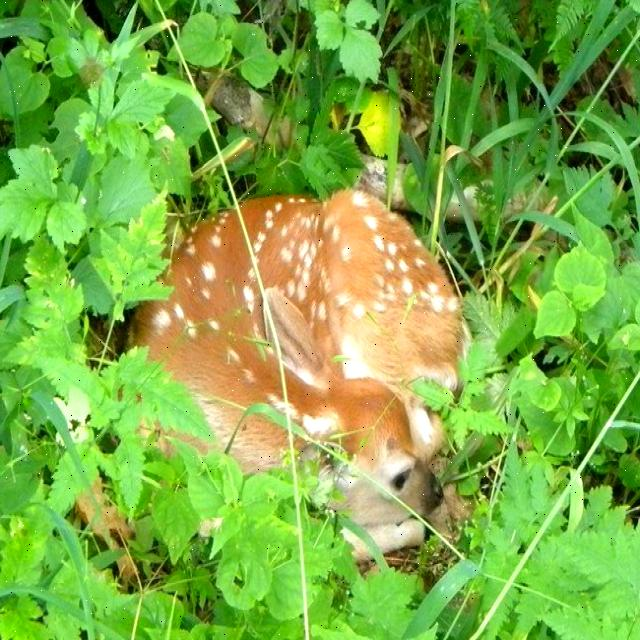deer: (281, 349, 429, 532)
